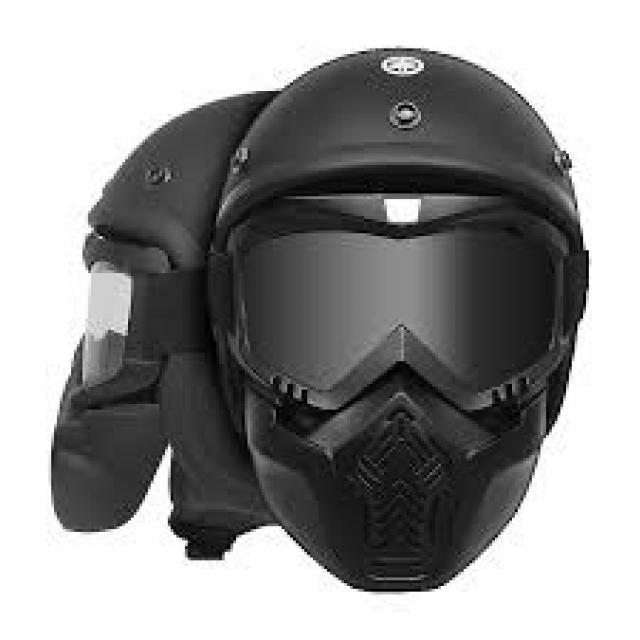Helmet: (54, 48, 589, 589)
